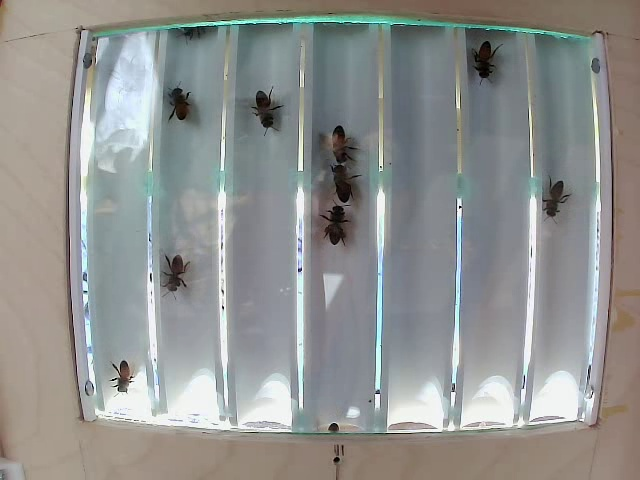bee: (238, 74, 282, 138), (156, 238, 192, 312), (536, 175, 575, 228), (156, 73, 194, 125), (316, 121, 363, 162), (325, 158, 361, 206), (322, 195, 351, 245), (469, 37, 492, 89), (97, 360, 138, 388)
